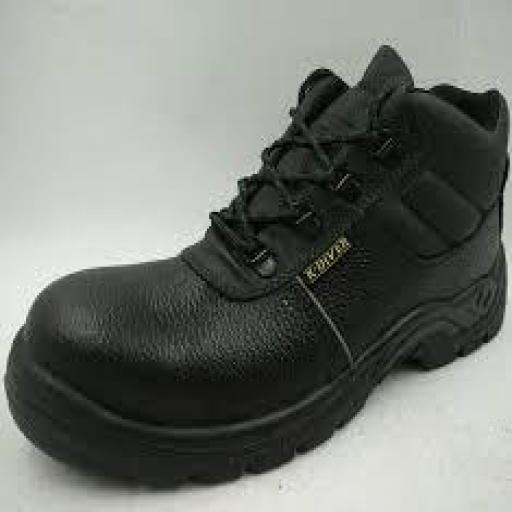safety_boots: (0, 43, 512, 470)
